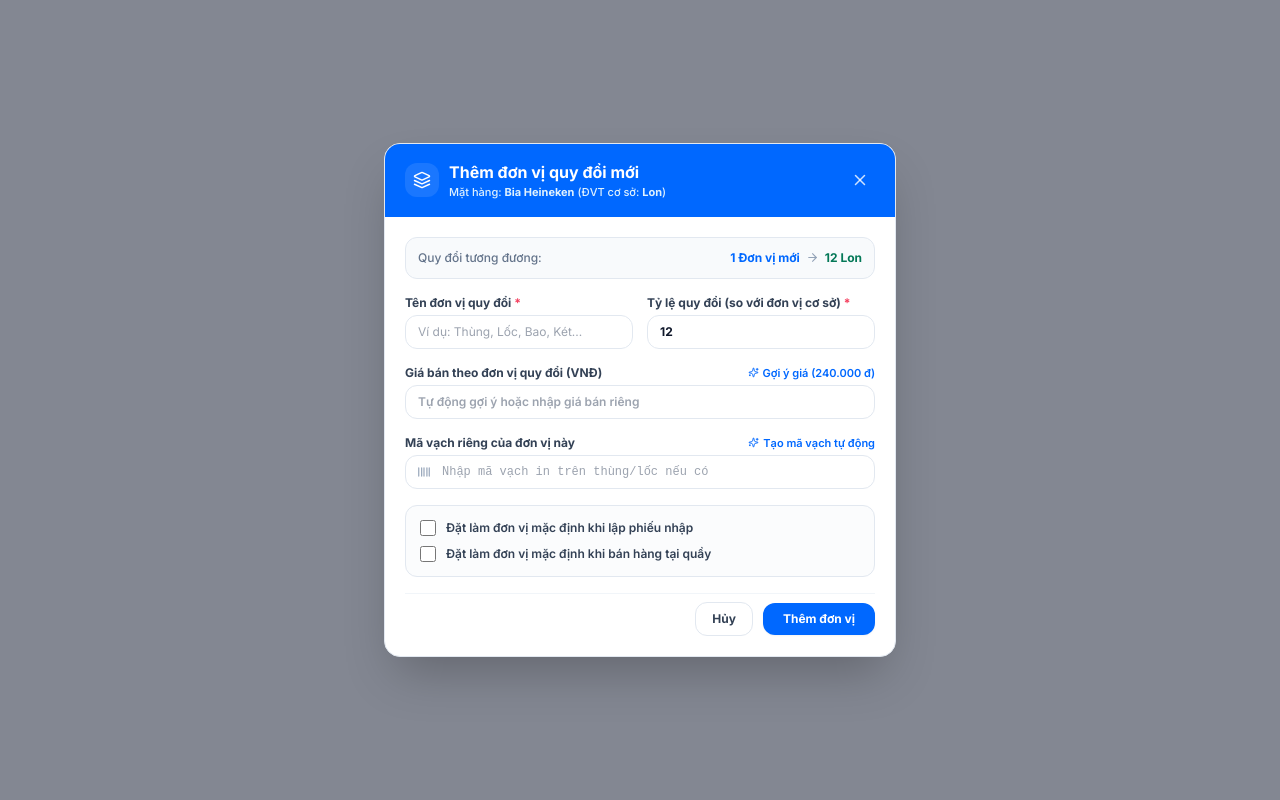
Test case: NCL-02-CN-007: Quản lý đơn vị tính và quy đổi đơn vị mua bán › NCL-02-CN-007-TC-03: Khóa sửa hệ số quy đổi khi sản phẩm đã phát sinh giao dịch tồn kho › Validation chặn nếu nhập tên đơn vị quy đổi trùng với đơn vị cơ sở
The image size is (1280, 800).
Type "Lon" into the field labelled "Tên đơn vị quy đổi *" at (519, 332), box [405,315,633,349]
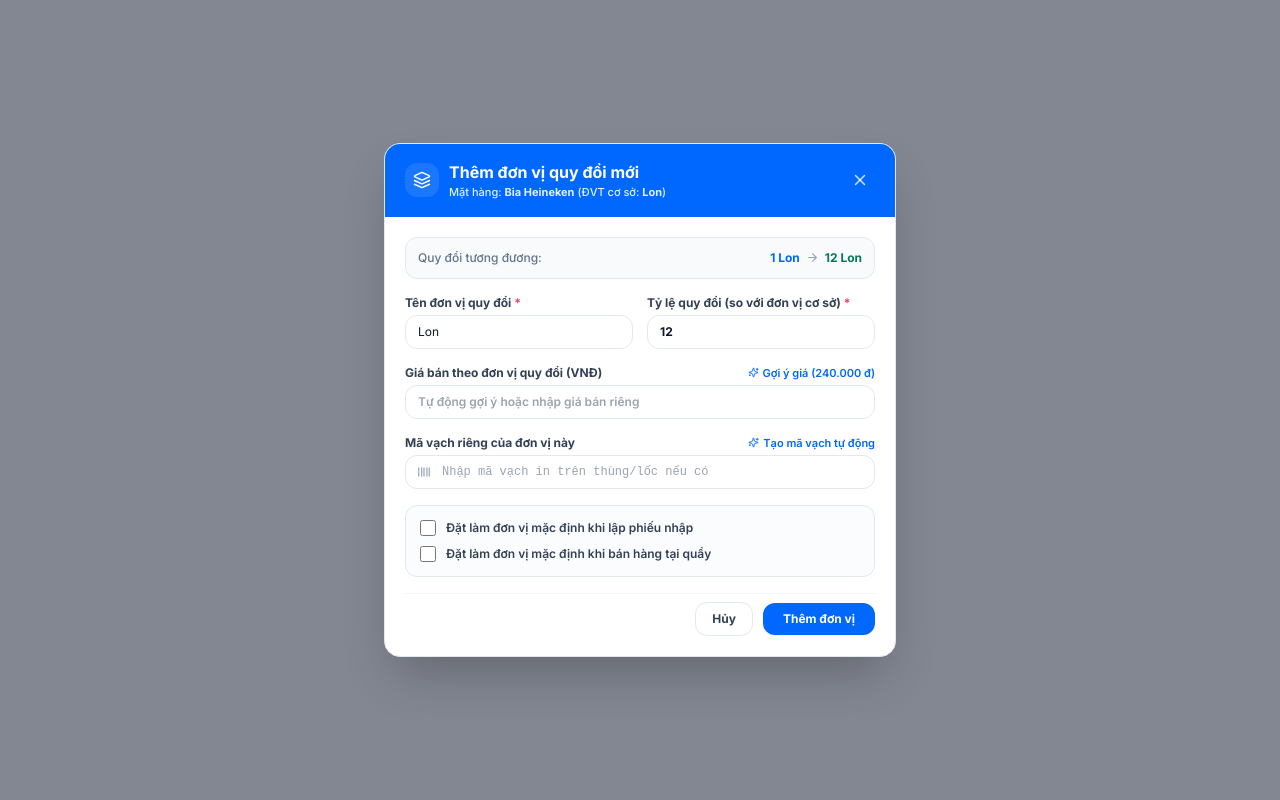
Click the button "Thêm đơn vị" at (819, 619), box [763,603,875,635]
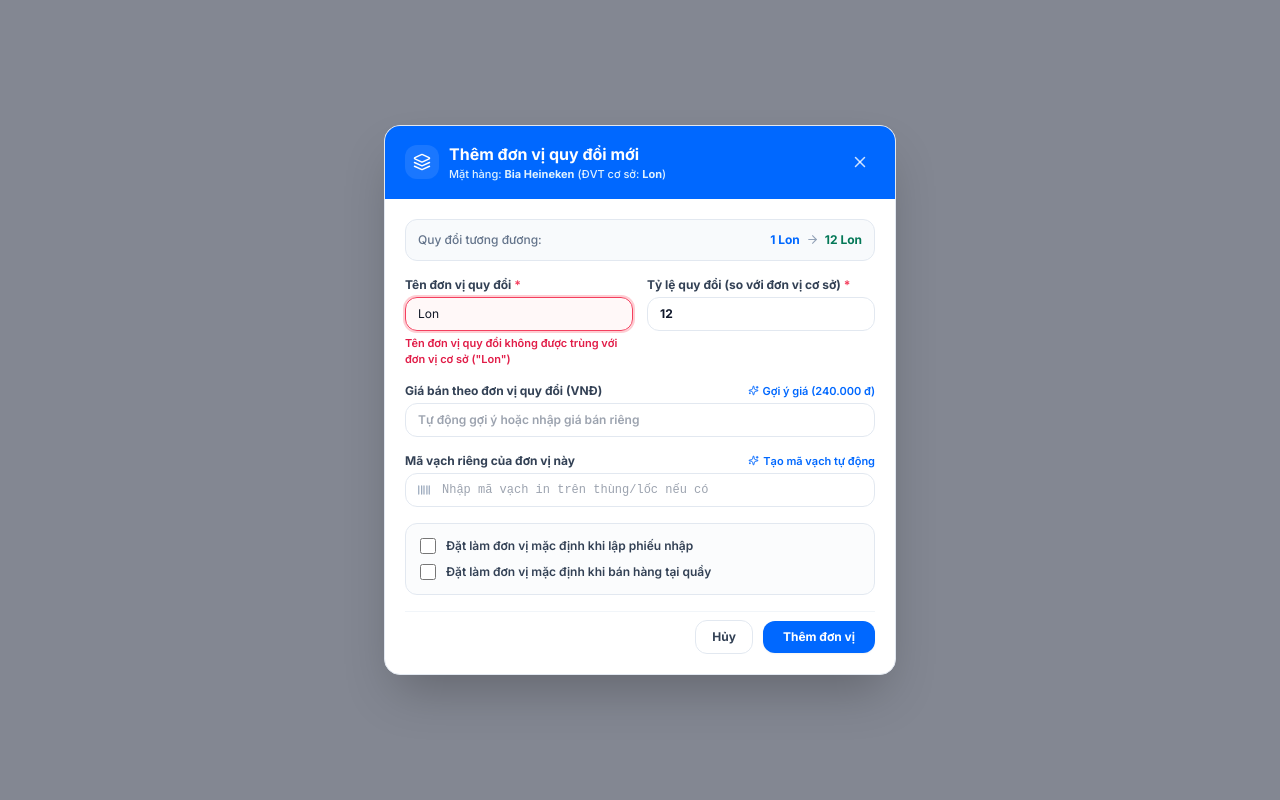
Expected: the text "Tên đơn vị quy đổi không được trùng với đơn vị cơ sở (\"Lon\")" is shown, [405,335,633,367]
